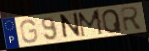9: (40, 16, 59, 42)
G: (19, 18, 39, 44)
M: (77, 9, 106, 39)
N: (60, 11, 82, 41)
Q: (102, 8, 124, 35)
R: (119, 5, 145, 33)
